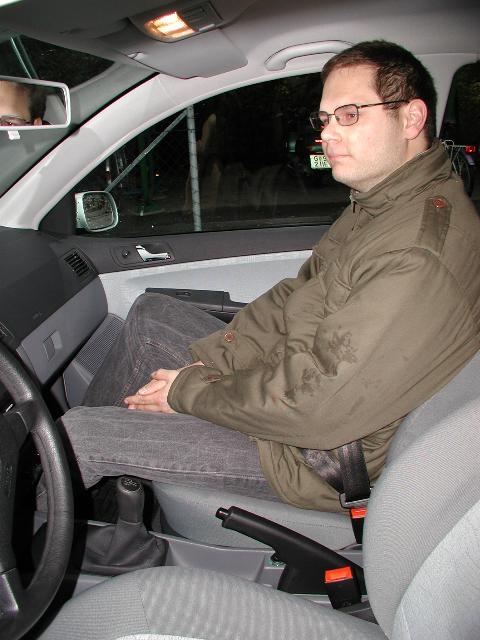Person: (124, 39, 477, 487)
